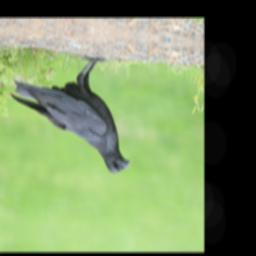Crow: (5, 45, 137, 177)
